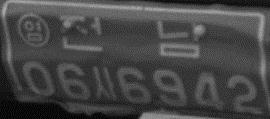0: (21, 60, 54, 97)
2: (228, 73, 262, 114)
4: (194, 71, 225, 112)
6: (54, 62, 92, 102), (118, 66, 152, 104)
9: (153, 68, 189, 107)
사: (92, 65, 117, 101)
영: (17, 12, 52, 47)
전남_D: (58, 14, 202, 57)
